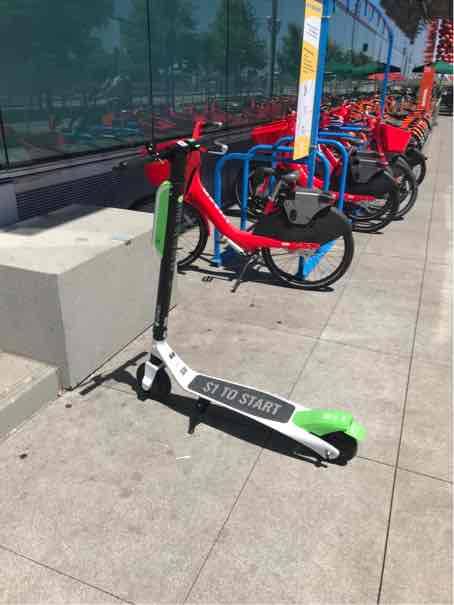scooter: (114, 117, 369, 469)
